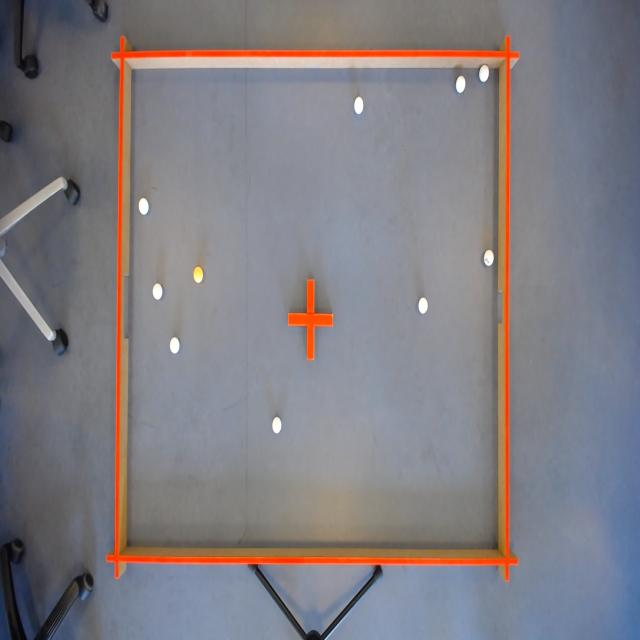cross: (287, 277, 335, 361)
orange_ball: (192, 264, 205, 288)
white_ball: (416, 292, 430, 317), (168, 334, 182, 358), (478, 62, 492, 86), (352, 95, 366, 118), (151, 280, 163, 303), (270, 415, 282, 438), (137, 196, 149, 219), (483, 248, 495, 269), (456, 74, 466, 96)
